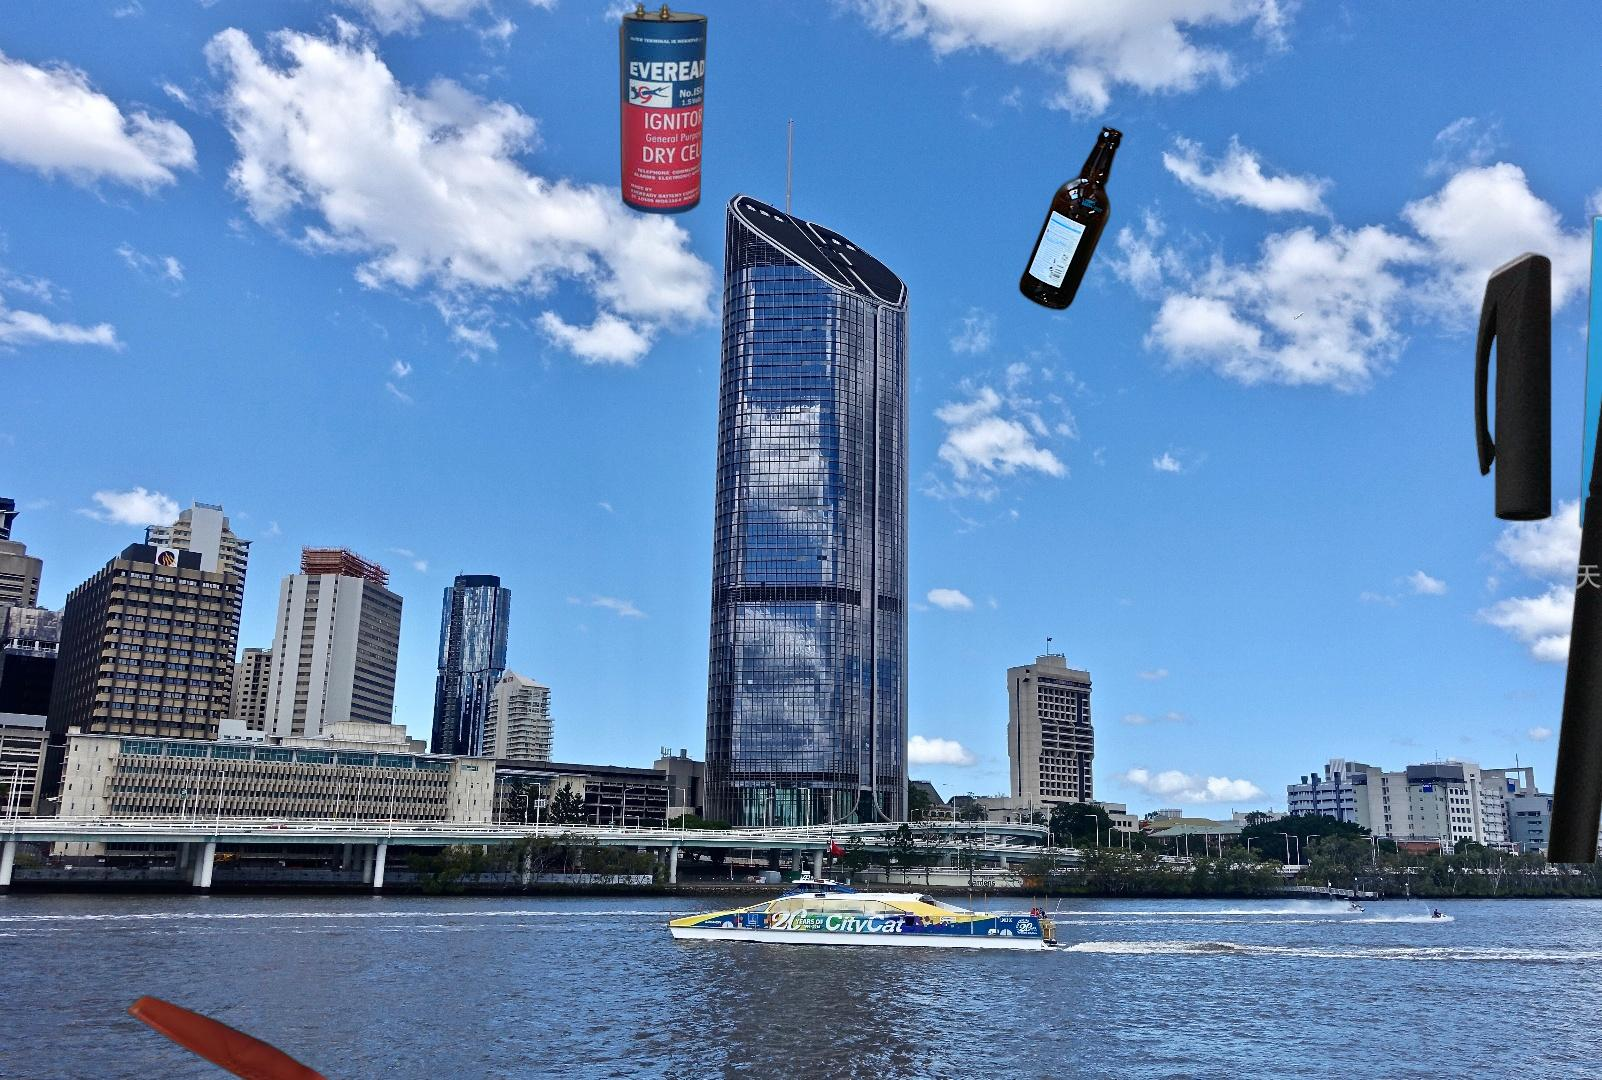battery: (616, 0, 710, 217)
glass: (1014, 121, 1127, 316)
paper: (121, 992, 544, 1080)
penholder: (1447, 245, 1602, 863)
trashbox-cardboard: (1575, 195, 1602, 616)
